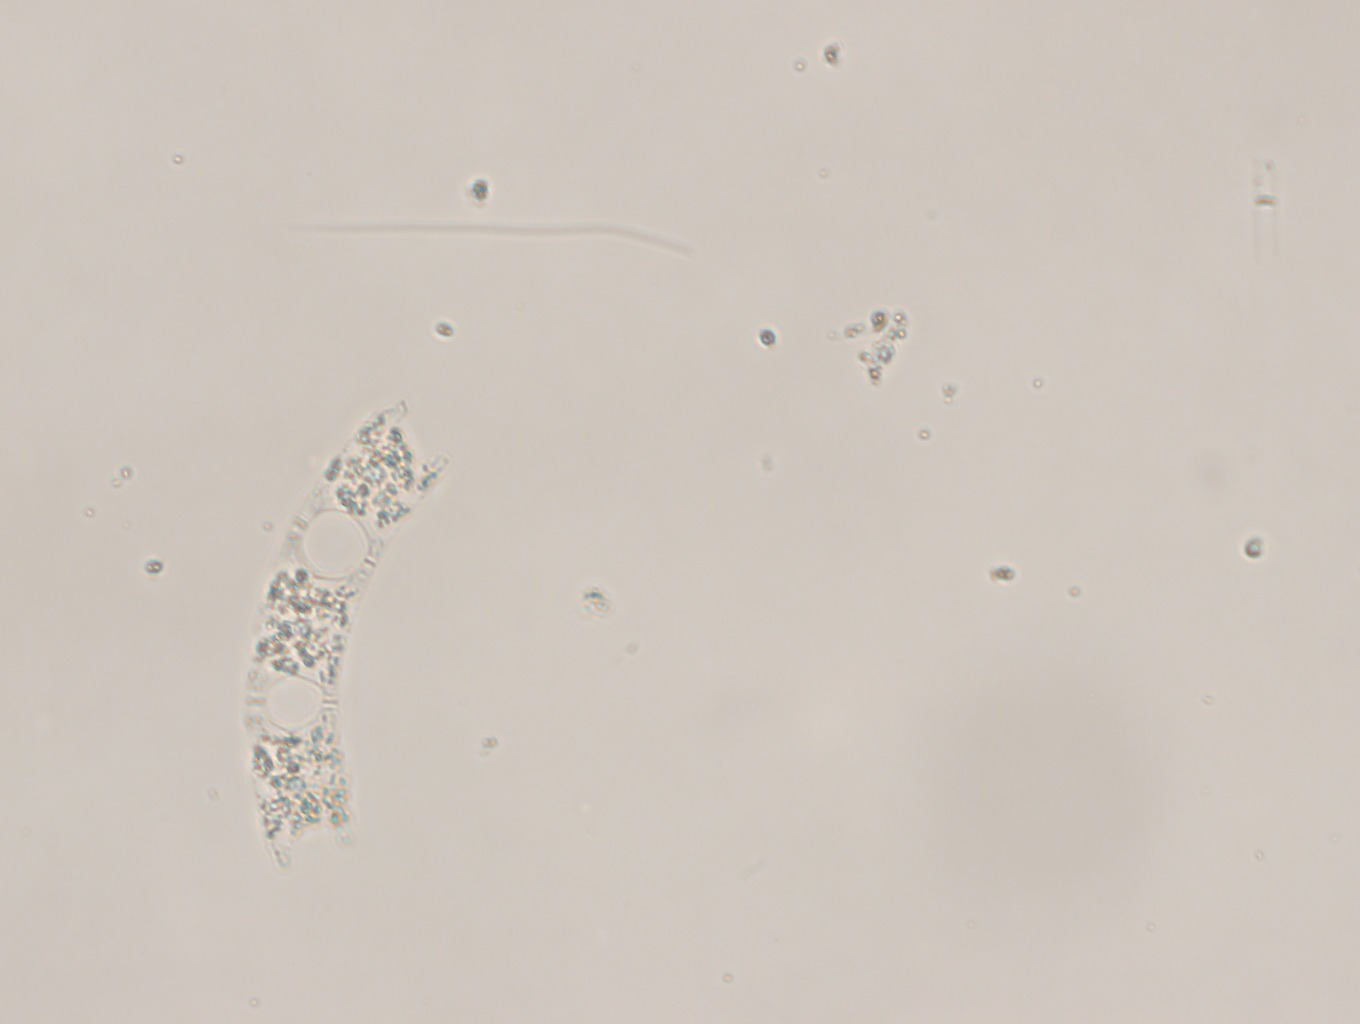eucampia: (241, 381, 449, 882)
